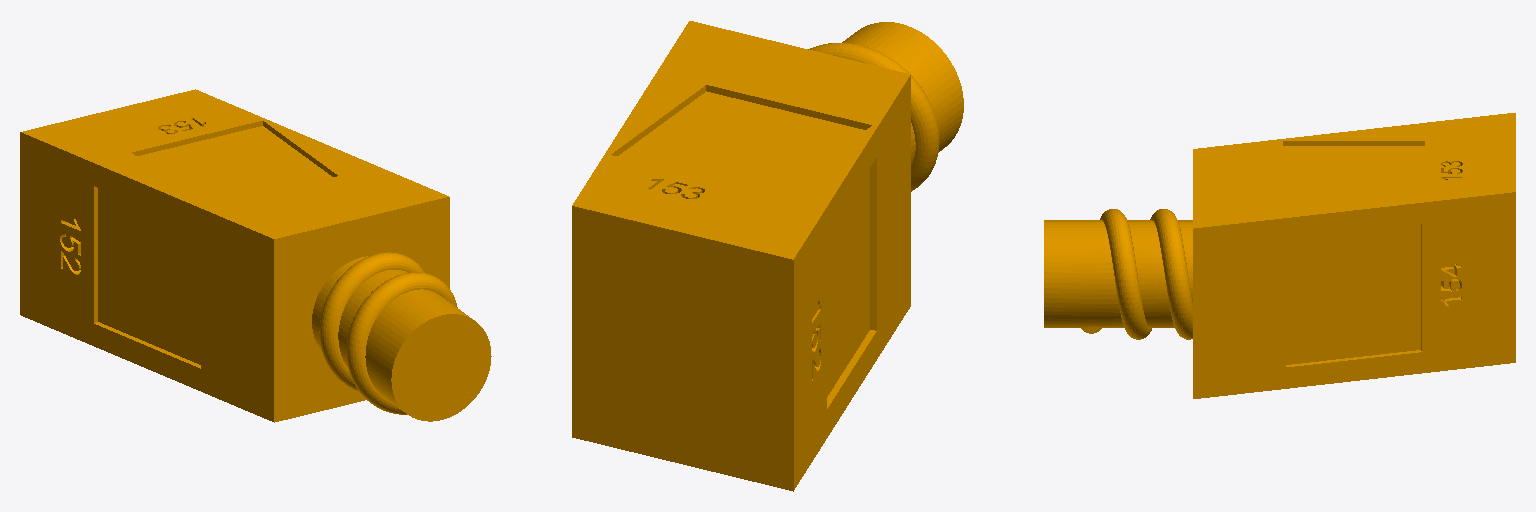
URDF robot description (stool_leg2):
<?xml version="1.0"?>
<robot name="stool_leg2">
    <link name="stool_leg2">
        <visual>
            <geometry>
                <mesh filename="../mesh/stool/stool_leg2.obj" scale="1 1 1"/>
            </geometry>
        </visual>
        <collision>
            <geometry>
                <mesh filename="../mesh/stool/stool_leg2.obj" scale="1 1 1"/>
            </geometry>
            <sdf resolution="512"/>
        </collision>
    </link>
</robot>

--- Render facts (derived) ---
3 views of the same robot in one strip: view 1: azimuth 30°, elevation 25°; view 2: azimuth 150°, elevation 25°; view 3: azimuth 270°, elevation 25° (orthographic).
Robot: stool_leg2 — 1 links, 0 joints (none); root link stool_leg2; default pose: all joints at 0.
Links seen in each view (by area): view 1: stool_leg2; view 2: stool_leg2; view 3: stool_leg2.
Link boxes in pixels (x1=…): stool_leg2: x1=20, y1=89, x2=491, y2=422; stool_leg2: x1=572, y1=21, x2=963, y2=491; stool_leg2: x1=1044, y1=113, x2=1515, y2=398.
Size in the robot's own frame: 0.0511 by 0.0875 by 0.035 metres.
Meshes: 1 distinct files referenced, 1 mesh visuals loaded (1 OBJ).